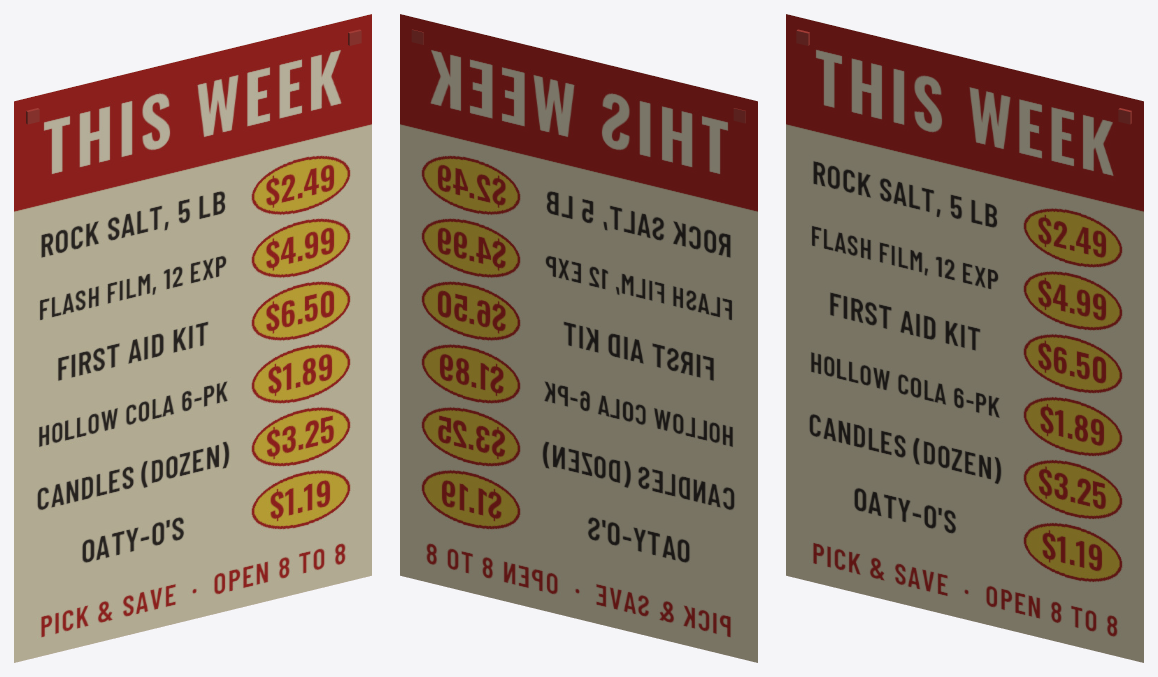
Rendered from SM_Poster_Market.fbx.
3 views of the same model, side by side, from view 1: azimuth 30°, elevation 25°; view 2: azimuth 150°, elevation 25°; view 3: azimuth 330°, elevation 25° (orthographic).
Parts seen in each view (by area): view 1: SM_Poster_Market_1; view 2: SM_Poster_Market_1; view 3: SM_Poster_Market_1.
Boxes of the visible parts, box(x1,y1,x2,y2) form: SM_Poster_Market_1: box(14, 14, 371, 662); SM_Poster_Market_1: box(400, 14, 757, 662); SM_Poster_Market_1: box(786, 14, 1143, 662).
Size of the model in its own units: 60 by 90 by 0.6.
